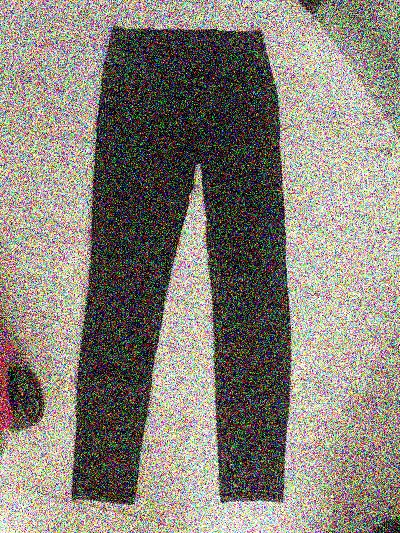Pants: (70, 11, 313, 506)
